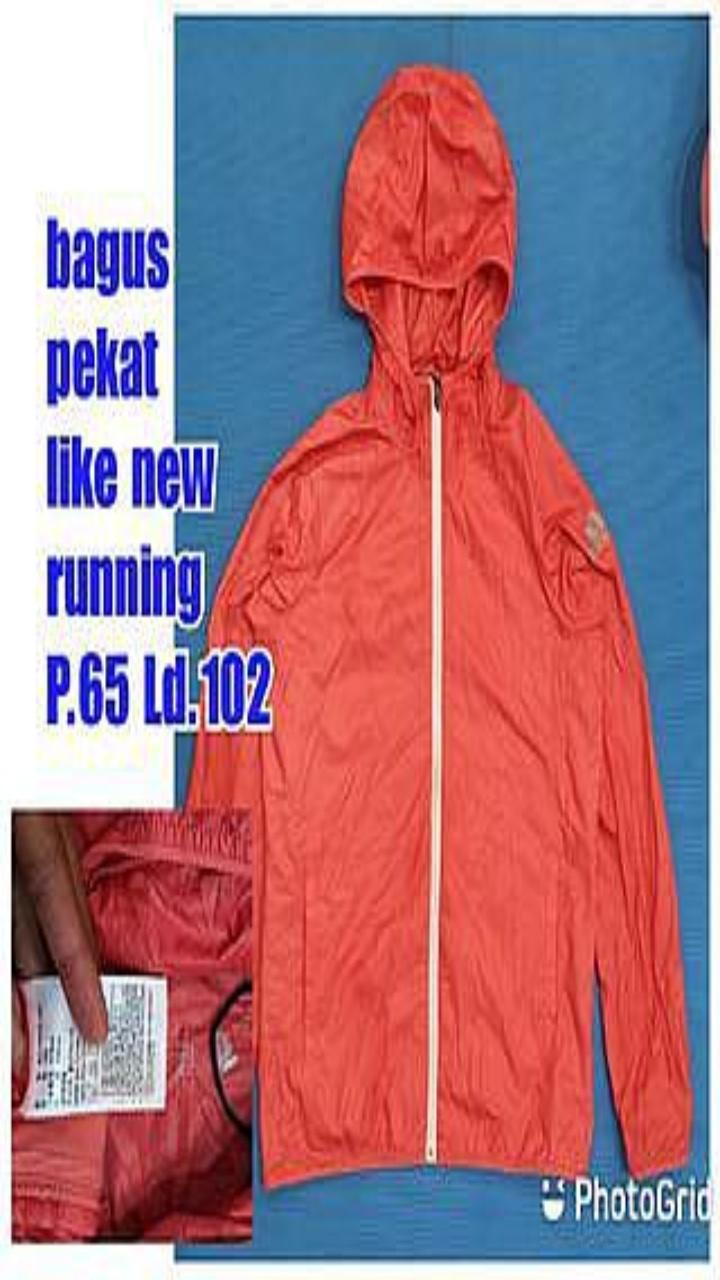Sports_Jacket: (188, 66, 690, 1186), (12, 810, 251, 1240)
